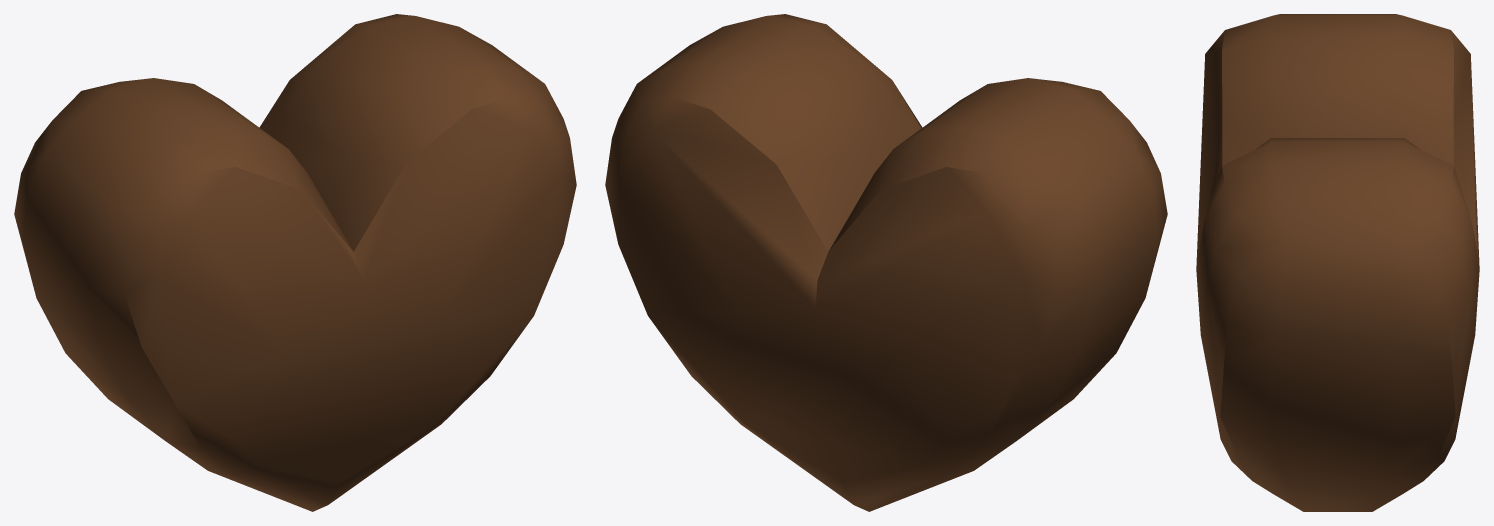
The model's file is cc0-heart-lod1.glb.
The picture shows the model from 3 angles, left to right: view 1: azimuth 30°, elevation 25°; view 2: azimuth 150°, elevation 25°; view 3: azimuth 270°, elevation 25°; orthographic projection.
Visible parts, largest first — view 1: part_0; view 2: part_0; view 3: part_0.
Boxes of the visible parts, <box> form: part_0: <box>14,14,576,511</box>; part_0: <box>605,14,1167,511</box>; part_0: <box>1196,14,1479,511</box>.
Bounding box in the file's own units: 1.48 × 1.24 × 0.7542.
